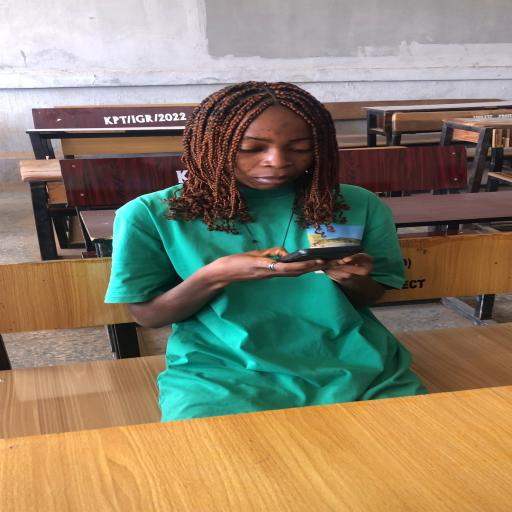Usingmobile: (105, 86, 425, 423)
